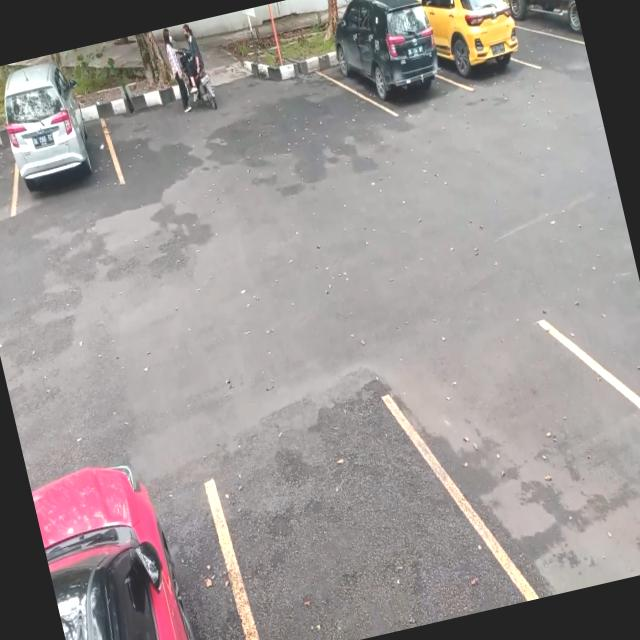car: (0, 76, 121, 209), (327, 1, 452, 126), (422, 0, 526, 97), (499, 0, 583, 51)
free: (198, 391, 500, 640), (418, 298, 640, 612), (0, 129, 27, 233)
